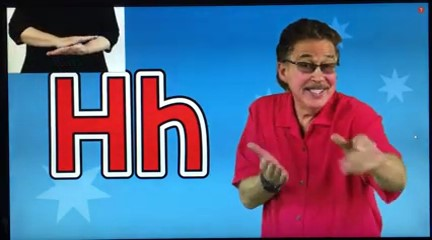H: (38, 23, 115, 61)
